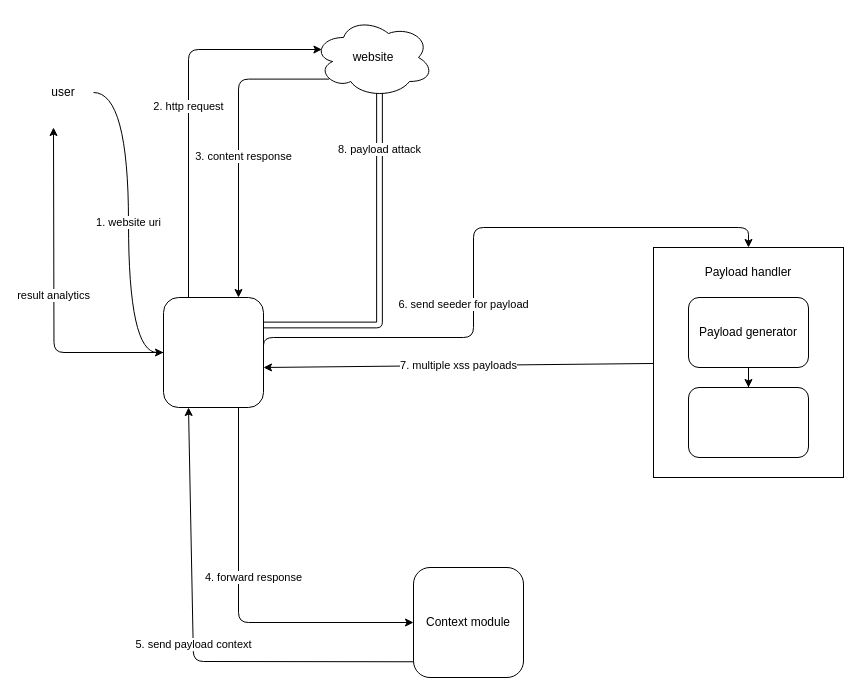
Image size: 861x695. Some labels were removed from this diagram. Here are the shapes that lost their labels. From the top down, the box of each, then its label:
(162, 296, 264, 408): Core
(688, 386, 808, 458): Obfuscation
